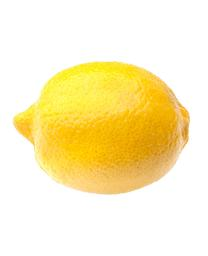lemon: (13, 60, 191, 193)
